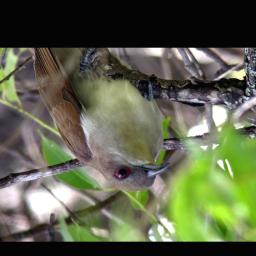Cuckoo: (33, 48, 171, 192)
